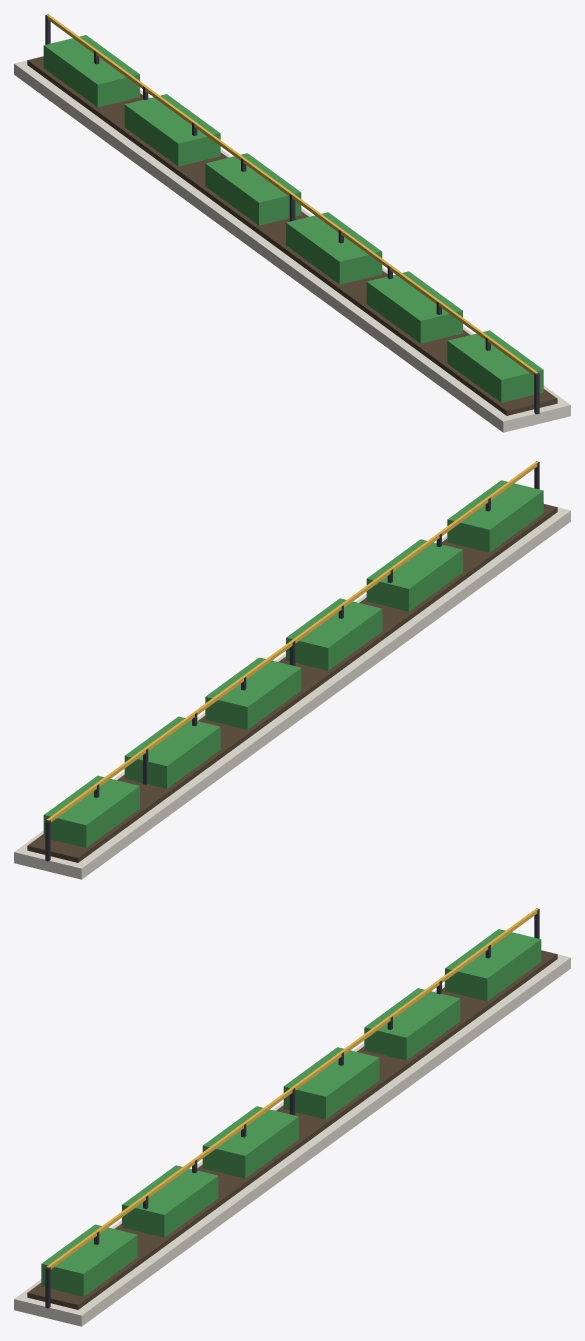
File: lane_separator.glb
The picture shows the model from 3 angles, top to bottom: view 1: azimuth 30°, elevation 25°; view 2: azimuth 150°, elevation 25°; view 3: azimuth 330°, elevation 25°; orthographic projection.
Visible parts, largest first — view 1: separator; view 2: separator; view 3: separator.
Boxes of the visible parts, box(x1,y1,x2,y2) form: separator: box(14, 14, 570, 432); separator: box(14, 461, 570, 879); separator: box(14, 908, 570, 1326).
Size of the model in its own units: 1.6 by 1.16 by 20.08.
